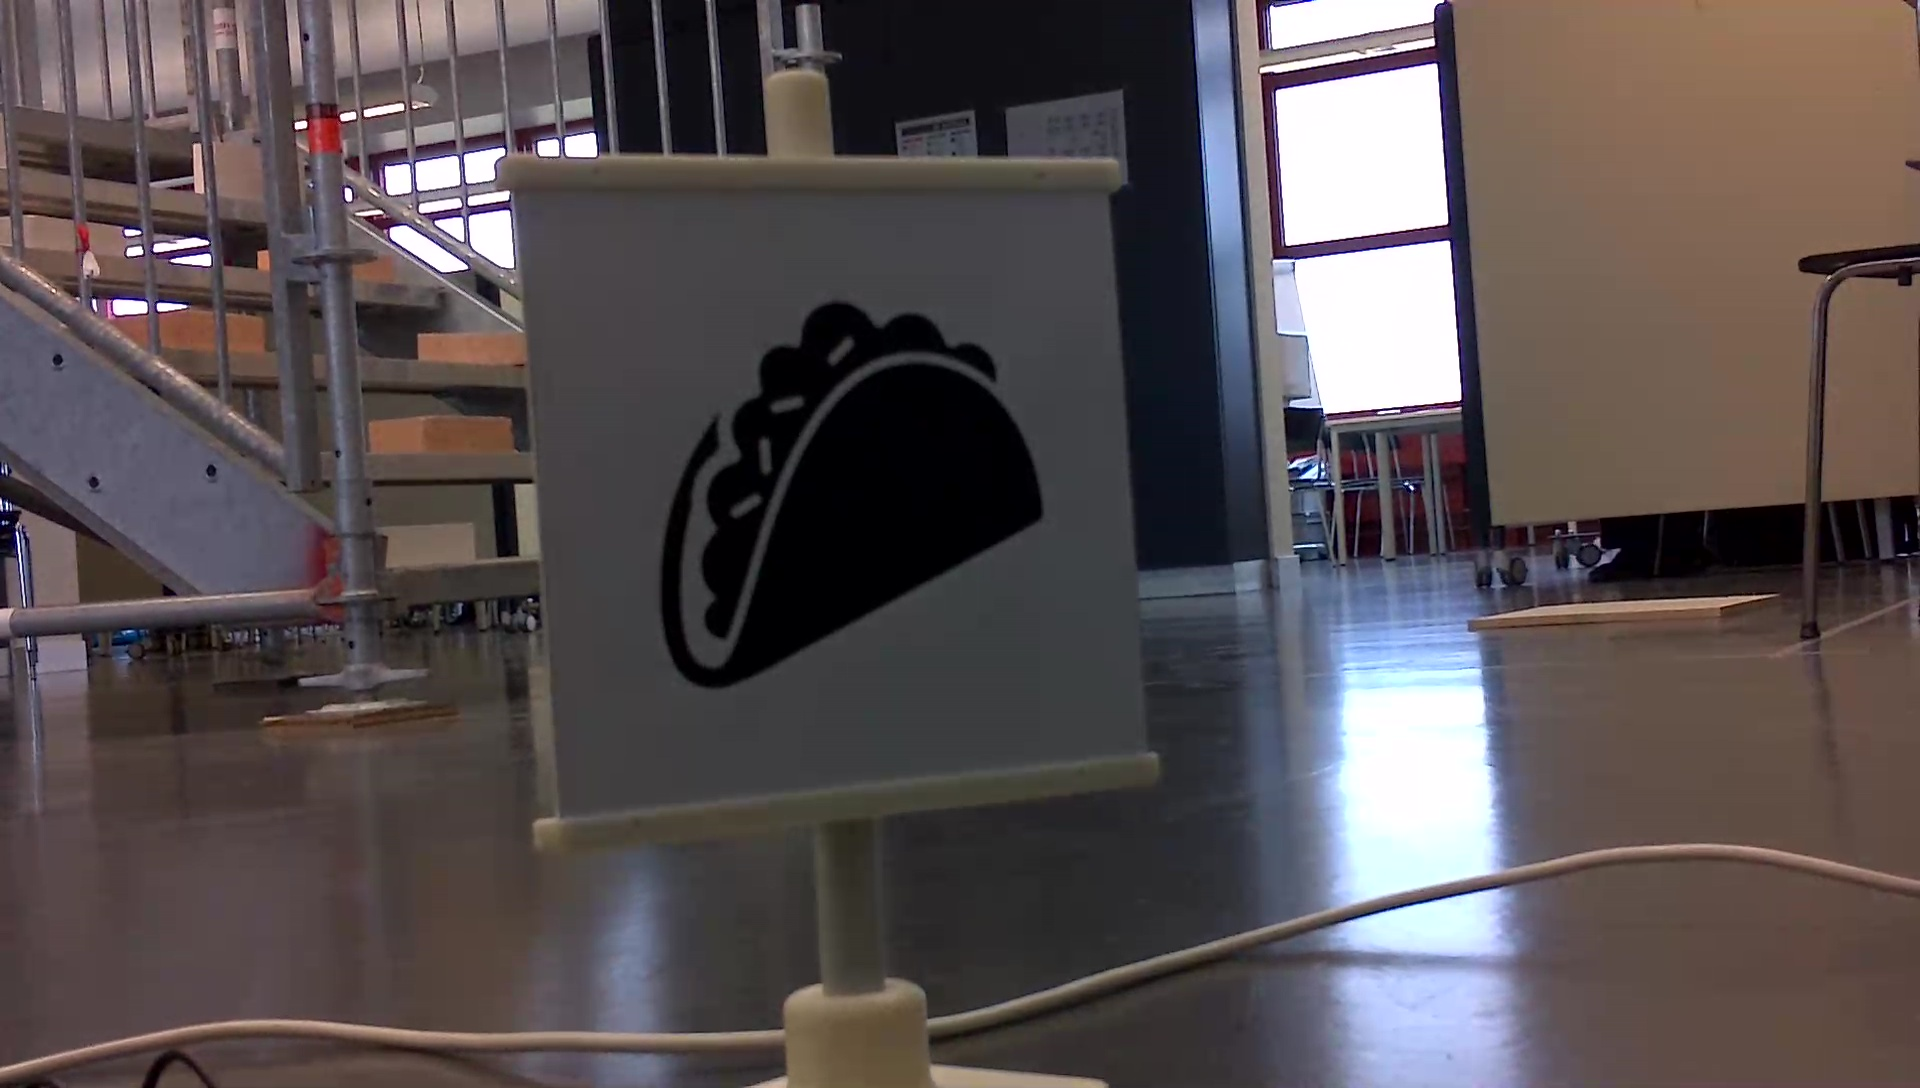brick: (371, 415, 513, 458), (382, 521, 472, 564), (419, 328, 525, 365)
taco: (647, 287, 1052, 700)
